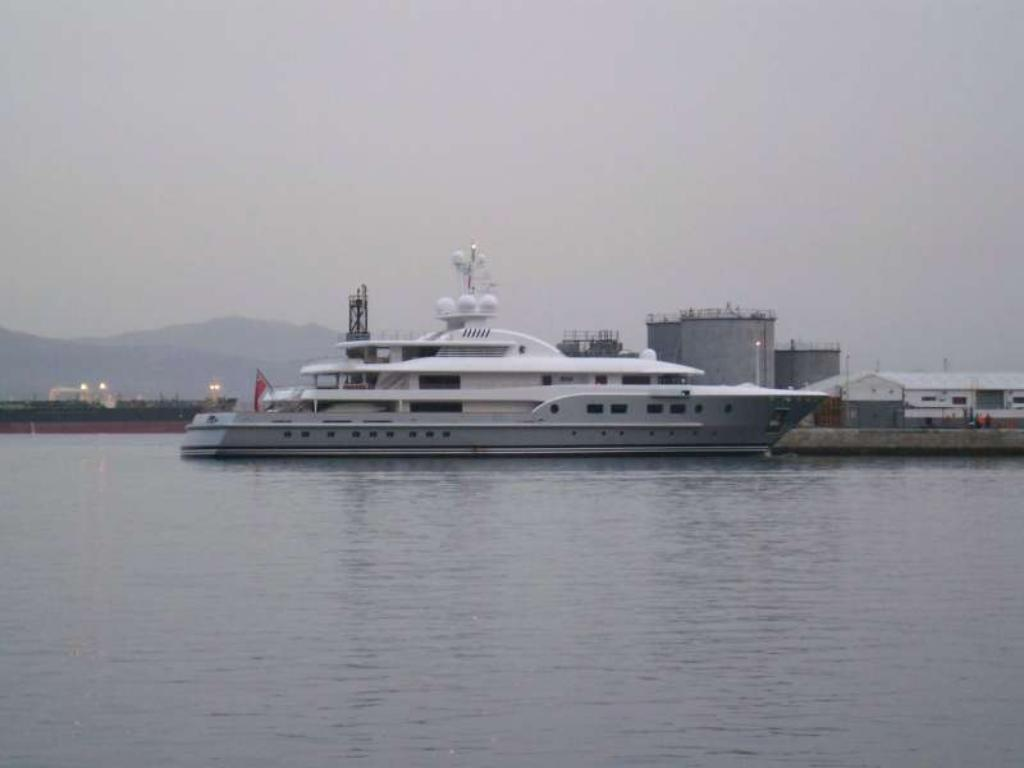PassengerShip: (166, 254, 842, 460)
